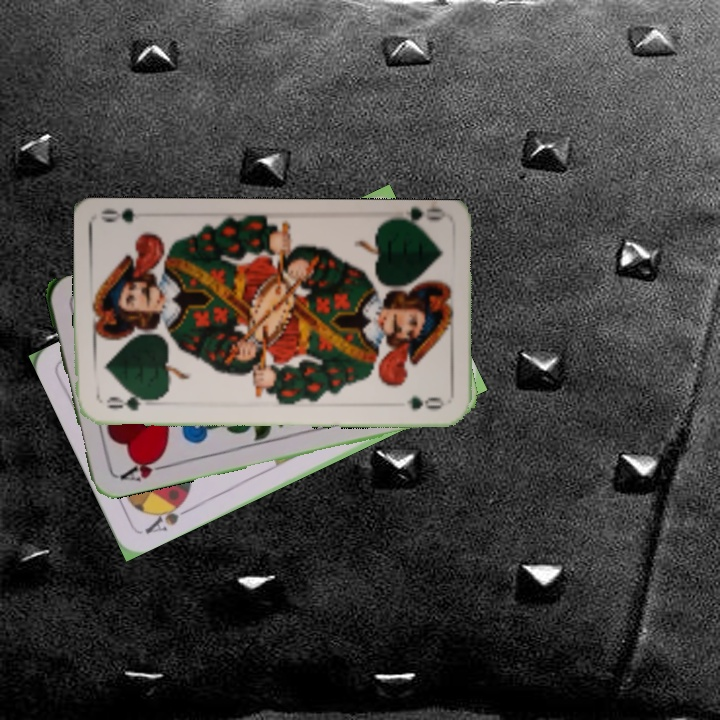GO: (388, 206, 447, 233), (102, 390, 156, 414)
HA: (111, 451, 170, 484)
SA: (141, 494, 194, 537)
